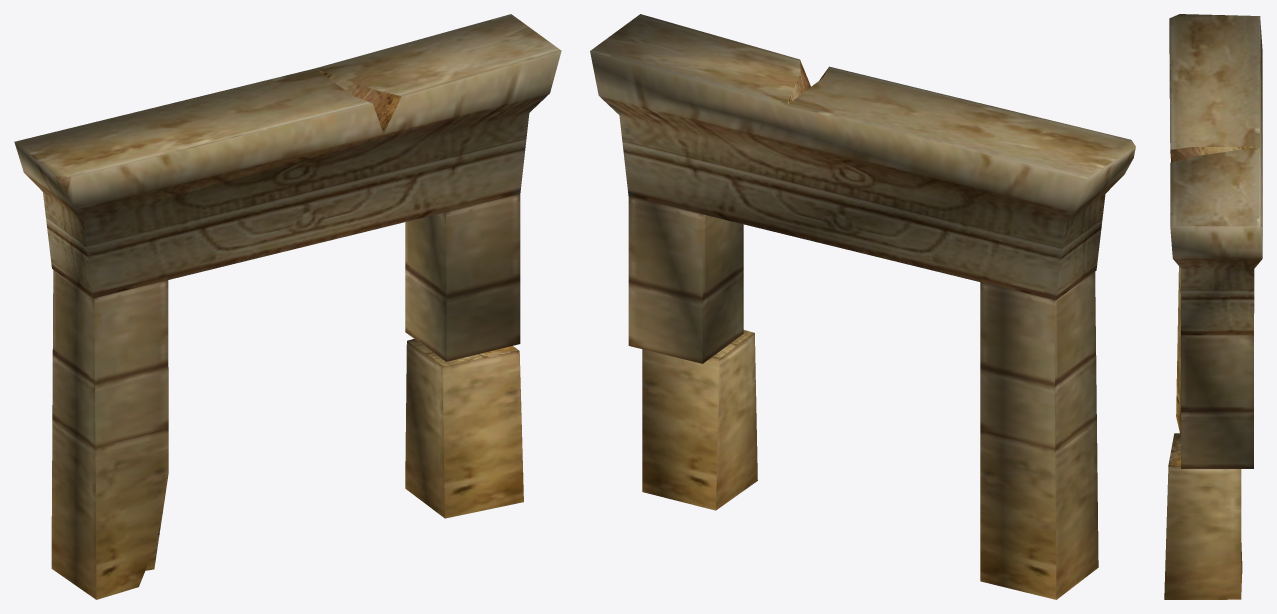
Rendered from S_Build_Desert084.FBX.
The picture shows the model from 3 angles, left to right: view 1: azimuth 30°, elevation 25°; view 2: azimuth 150°, elevation 25°; view 3: azimuth 270°, elevation 25°; orthographic projection. The views are drawn at different scales.
Visible parts, largest first — view 1: S_Build_Desert084; view 2: S_Build_Desert084; view 3: S_Build_Desert084.
Part boxes in pixels (x1,y1,x2,y2): S_Build_Desert084: (14, 14, 561, 599); S_Build_Desert084: (590, 14, 1135, 599); S_Build_Desert084: (1164, 14, 1262, 599).
Bounding box in the file's own units: 510 × 97.28 × 427.
